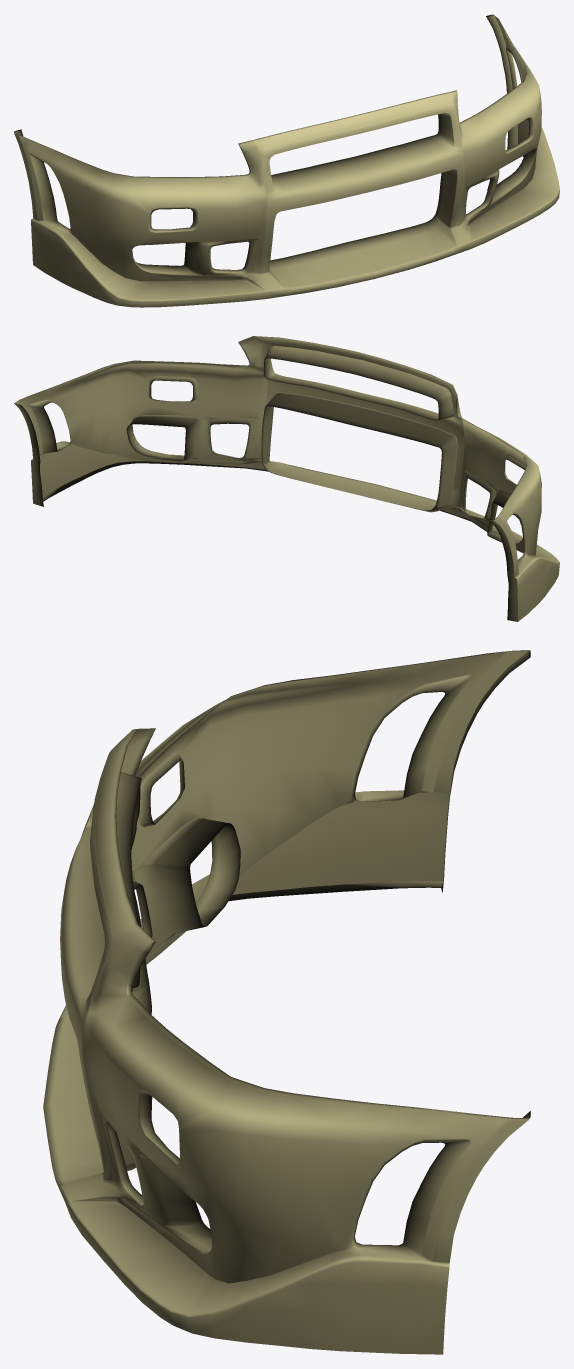
Rendered from R34_FB02_Duco.fbx.
The picture shows the model from 3 angles, top to bottom: view 1: azimuth 30°, elevation 25°; view 2: azimuth 150°, elevation 25°; view 3: azimuth 270°, elevation 25°; orthographic projection. The views are drawn at different scales.
Parts seen in each view (by area): view 1: R34_FB02_Duco; view 2: R34_FB02_Duco; view 3: R34_FB02_Duco.
Boxes of the visible parts, left/top/right/bottom form: R34_FB02_Duco: left=14, top=14, right=559, bottom=307; R34_FB02_Duco: left=14, top=336, right=559, bottom=621; R34_FB02_Duco: left=43, top=650, right=530, bottom=1354.
Size of the model in its own units: 178 by 53.29 by 77.46.
